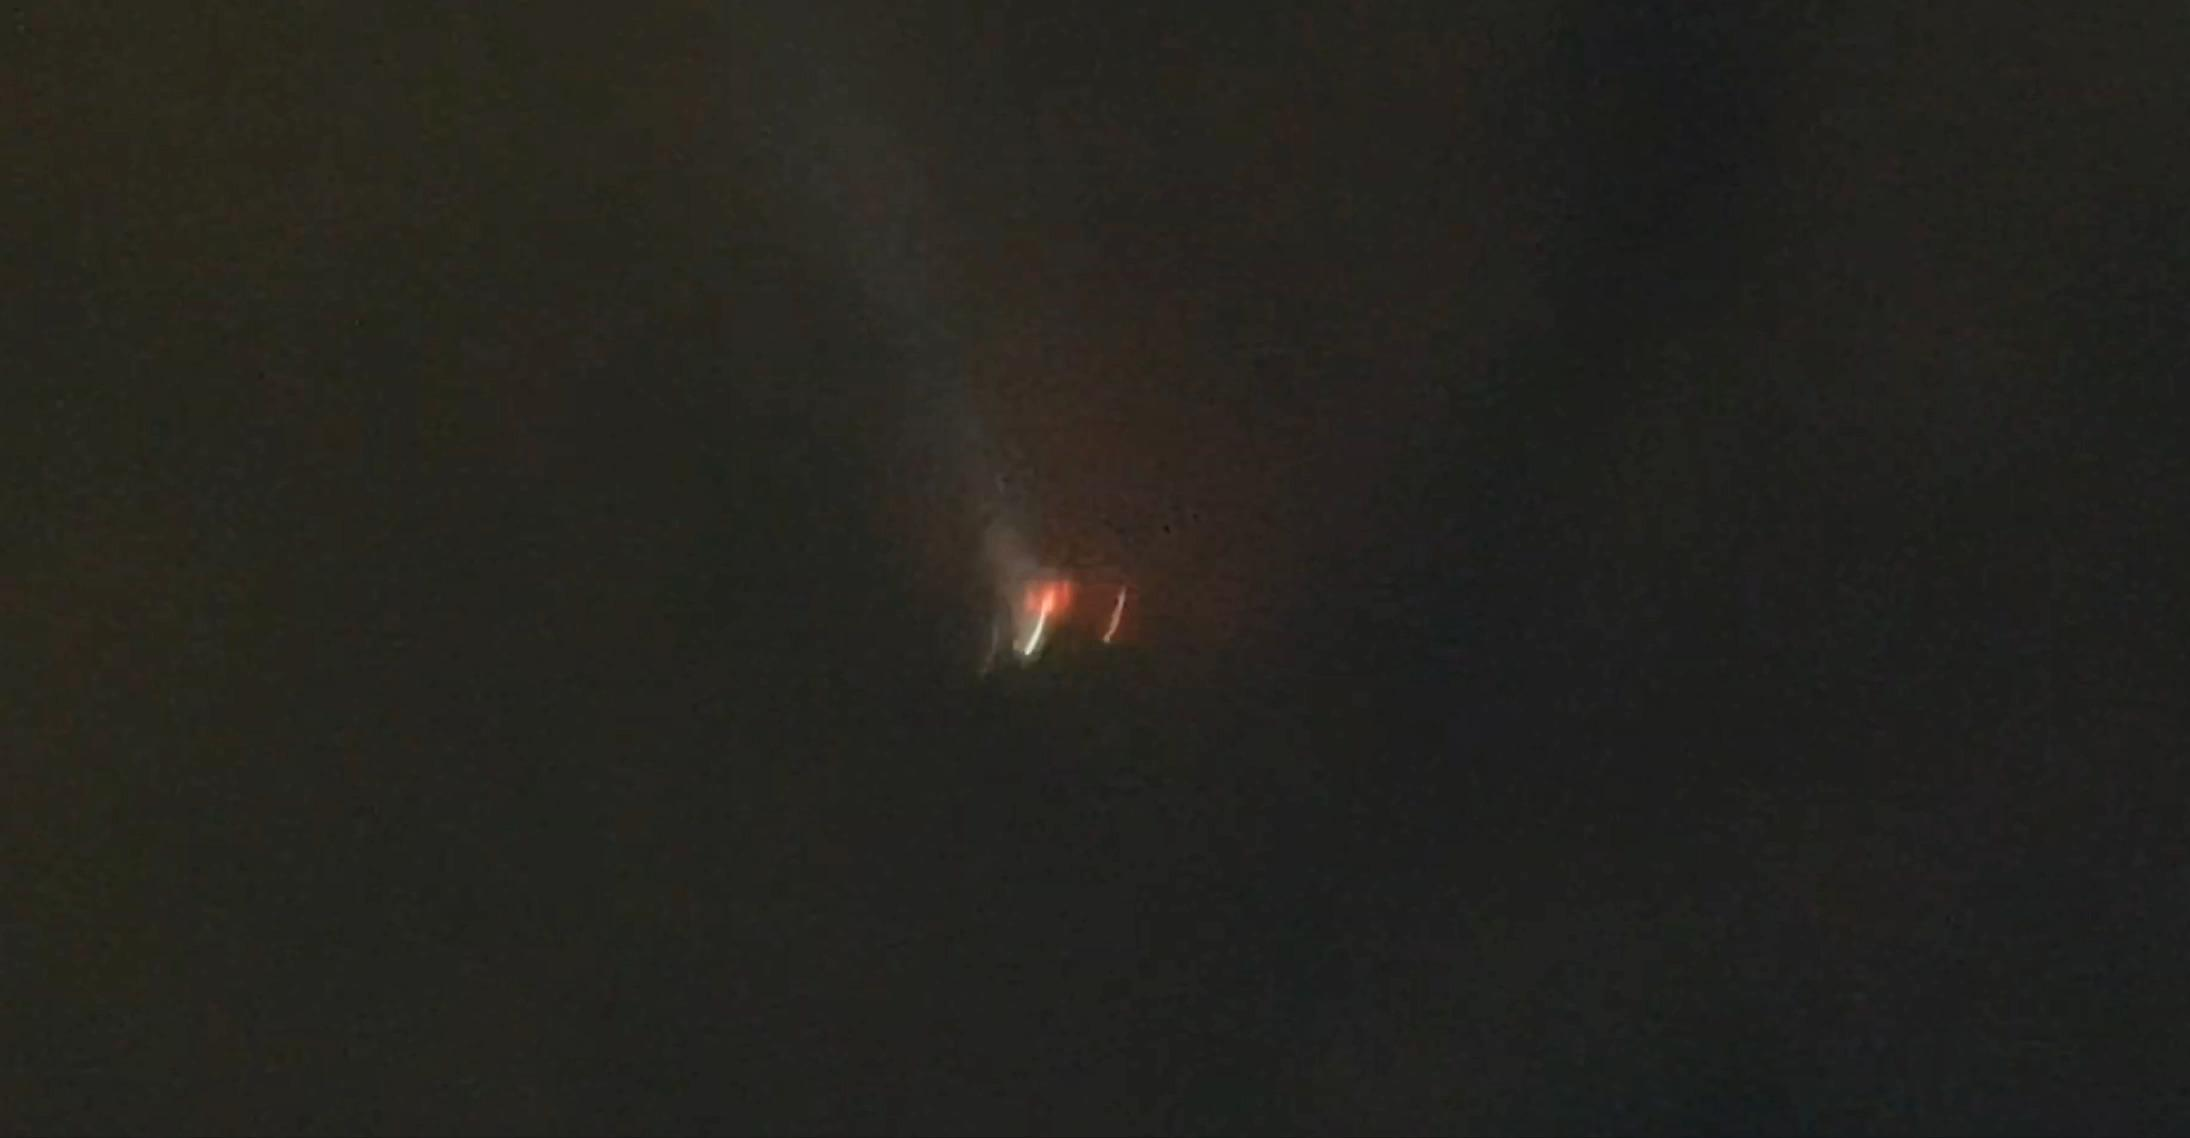Plane: (956, 488, 1179, 728)
